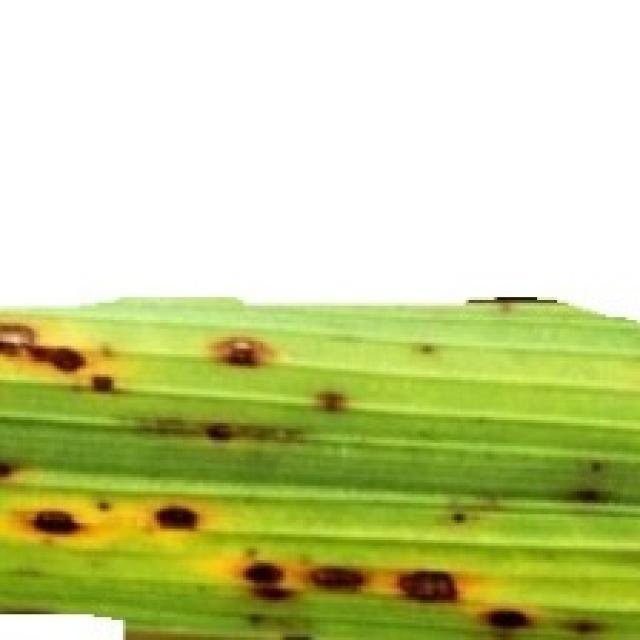Rice___Brown_Spot: (0, 296, 637, 637)
